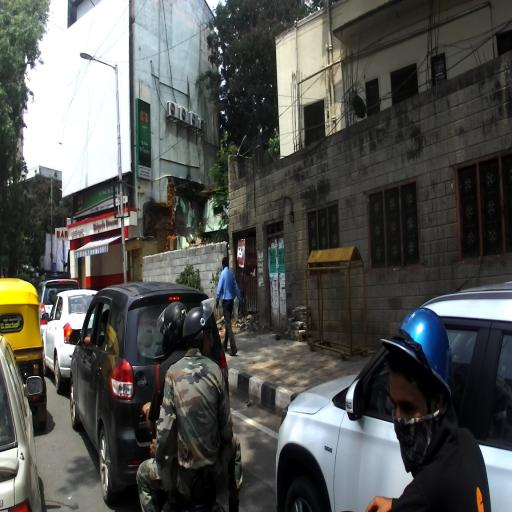street_light_0: (79, 50, 119, 72)
